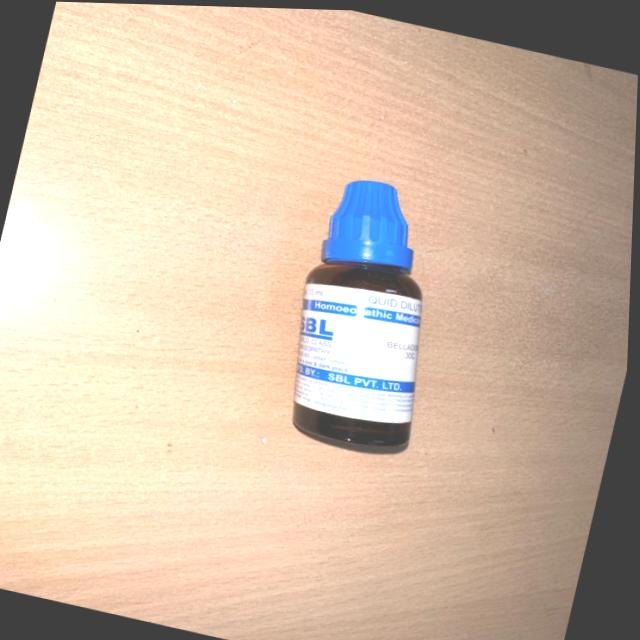medicine: (284, 166, 448, 458)
